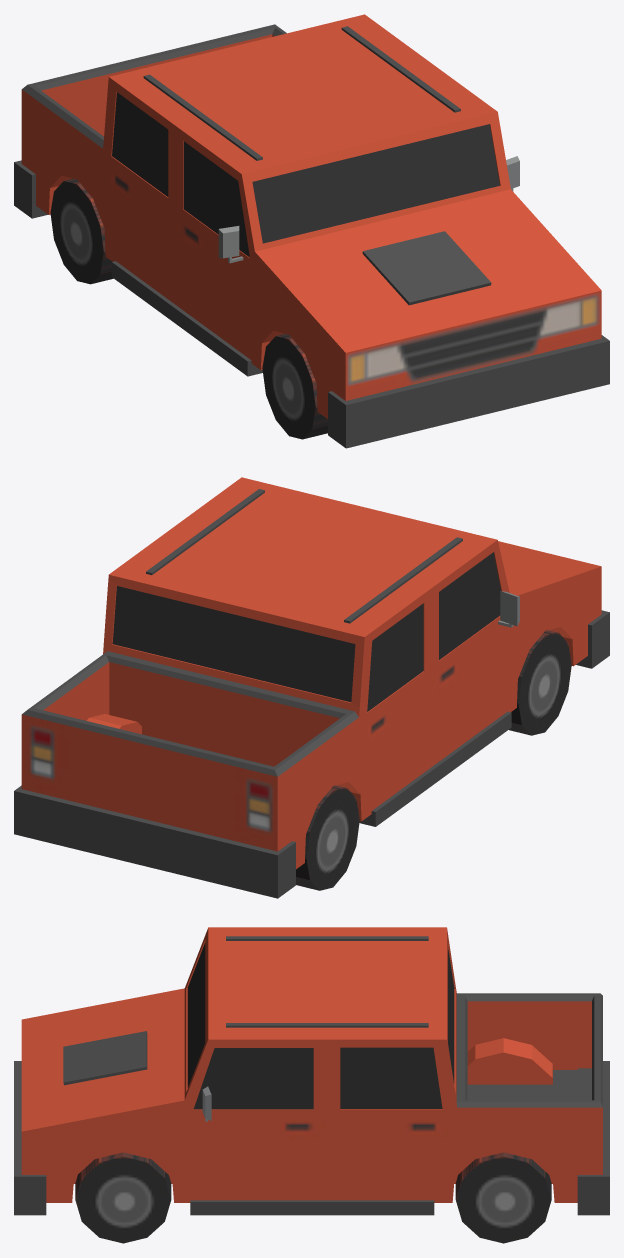
The model's file is Vehicle_Pick up Truck.fbx.
The picture shows the model from 3 angles, top to bottom: view 1: azimuth 30°, elevation 25°; view 2: azimuth 150°, elevation 25°; view 3: azimuth 270°, elevation 25°; orthographic projection. The views are drawn at different scales.
Visible parts, largest first — view 1: Pickup_Truck; view 2: Pickup_Truck; view 3: Pickup_Truck.
Part boxes in pixels (box(x1,y1,x2,y2)): Pickup_Truck: box(14, 14, 609, 448); Pickup_Truck: box(14, 477, 609, 898); Pickup_Truck: box(14, 927, 609, 1243).
Bounding box in the file's own units: 310 × 227 × 597.
